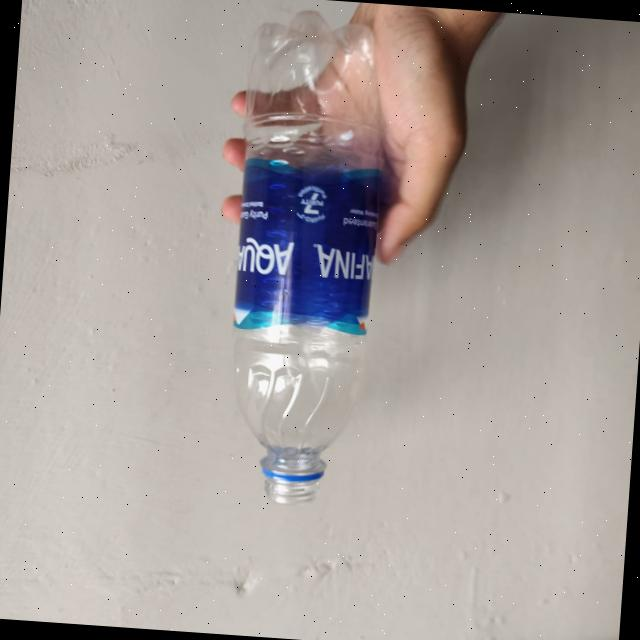bottle: (213, 11, 393, 512)
label: (219, 136, 376, 344)
